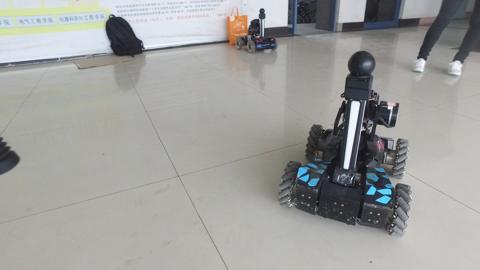bag: (104, 12, 145, 56), (225, 4, 248, 45)
chariot: (277, 50, 412, 237), (234, 7, 278, 54)
